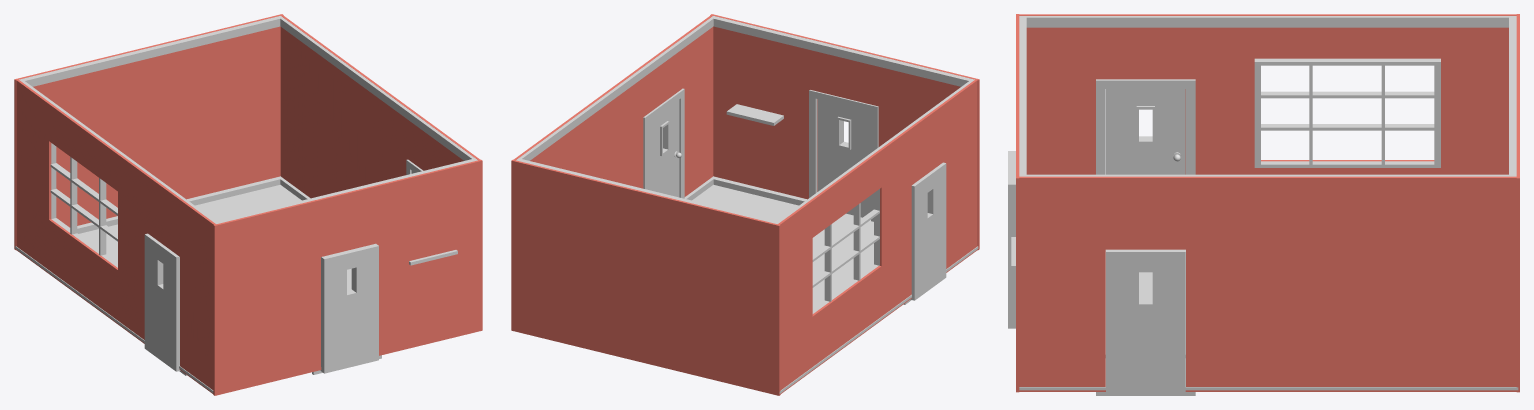
Rendered from classroomfinal.fbx.
3 renders of one model, left to right at view 1: azimuth 30°, elevation 25°; view 2: azimuth 150°, elevation 25°; view 3: azimuth 270°, elevation 25°, orthographic. The views are drawn at different scales.
Visible parts, largest first — view 1: walls, walls.001, door.003, door, door.001, floor; view 2: walls, walls.001, door.003, door.001, door, floor, door.002, carpet; view 3: walls, door.003, door.002, door.001, floor, door, walls.001, carpet.
Boxes of the visible parts, box(x1,y1,x2,y2) form: walls: box(14, 14, 482, 395); walls.001: box(15, 14, 283, 249); door.003: box(19, 16, 477, 375); door: box(320, 243, 378, 373); door.001: box(144, 233, 180, 371); floor: box(15, 184, 351, 392); walls: box(513, 14, 979, 395); walls.001: box(511, 160, 779, 395); door.003: box(516, 16, 974, 313); door.001: box(910, 162, 946, 300); door: box(817, 99, 870, 217); floor: box(692, 184, 978, 393); door.002: box(649, 100, 681, 197); carpet: box(812, 234, 873, 308); walls: box(1016, 14, 1519, 392); door.003: box(1011, 16, 1516, 395); door.002: box(1106, 249, 1185, 395); door.001: box(1106, 89, 1185, 174); floor: box(1019, 358, 1518, 390); door: box(1008, 151, 1015, 328); walls.001: box(1516, 14, 1519, 178); carpet: box(1105, 250, 1185, 357).
Size of the model in its own units: 1335 by 812 by 1720.
